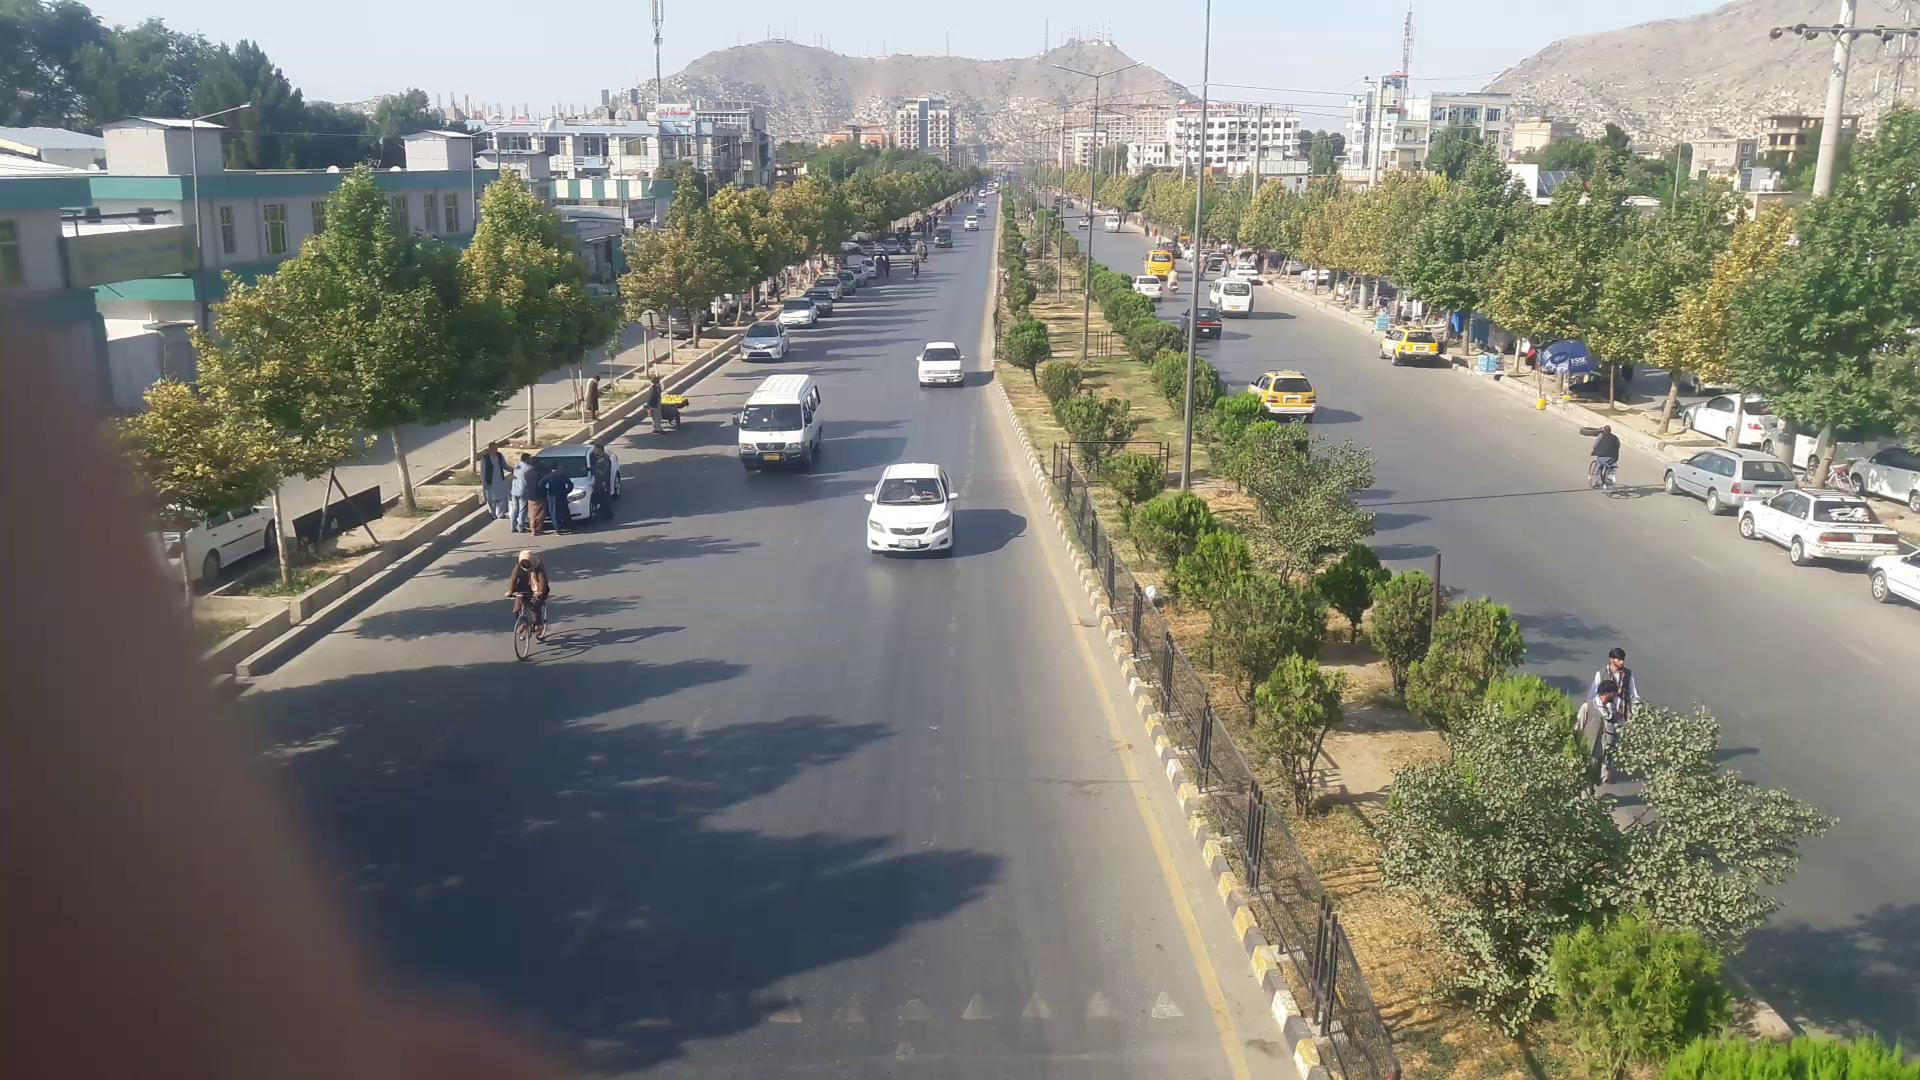bus: (740, 373, 825, 469), (1212, 277, 1254, 316), (1143, 249, 1174, 280)
car: (1749, 488, 1904, 568), (1665, 450, 1816, 514), (872, 463, 956, 550), (1378, 328, 1437, 368), (916, 340, 963, 382), (745, 327, 790, 361), (1182, 306, 1221, 343), (1130, 277, 1160, 302)
truck: (1249, 372, 1316, 422)
